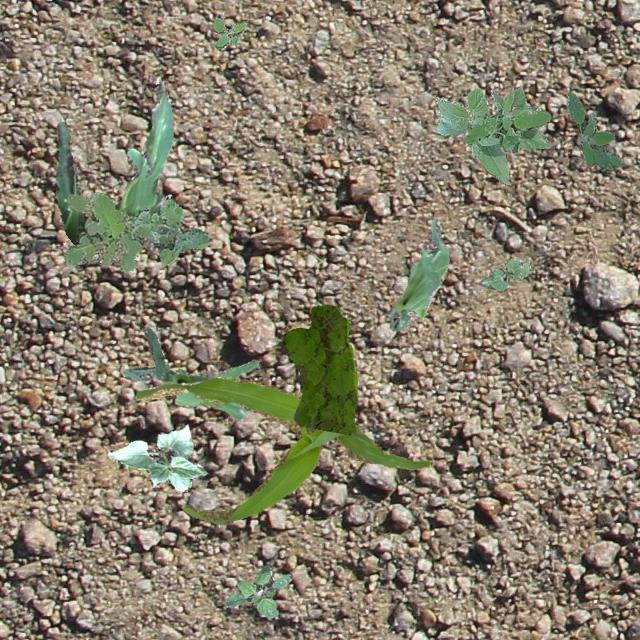crop: (134, 376, 430, 524), (56, 78, 172, 245), (122, 326, 260, 419), (434, 85, 548, 184), (388, 218, 448, 330), (106, 424, 206, 491), (480, 258, 530, 290)
weed: (64, 190, 208, 272), (280, 304, 356, 434), (464, 90, 550, 150), (564, 90, 622, 170), (224, 564, 290, 616), (214, 16, 246, 48)
